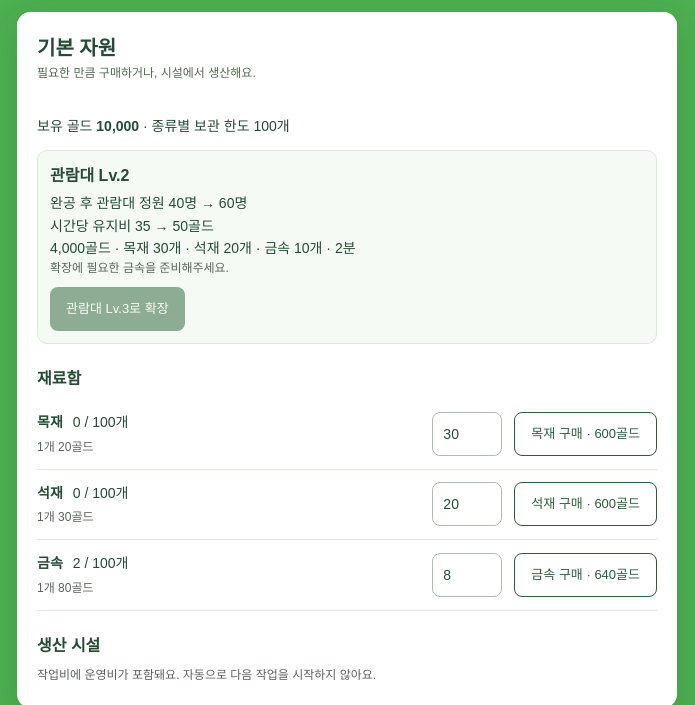
Test: early ordinary resource panel › previews the next capacity and buys missing metal through the same inventory
expect the heading "관람대 Lv.2" is shown: met, box [50, 167, 130, 184]
expect the text "완공 후 관람대 정원 40명 → 60명" is shown: met, box [50, 195, 247, 211]
Click the button "금속 구매 · 640골드" at coordinates (586, 575), box [514, 553, 657, 597]
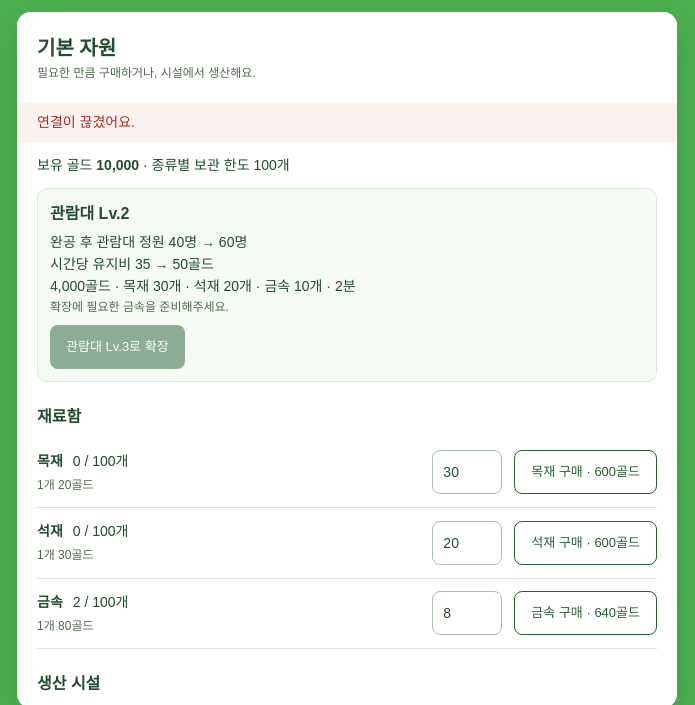
expect the message reads "연결이 끊겼어요.": met, box [37, 114, 135, 130]
Click the button "금속 구매 · 640골드" at coordinates (586, 614), box [514, 592, 657, 636]
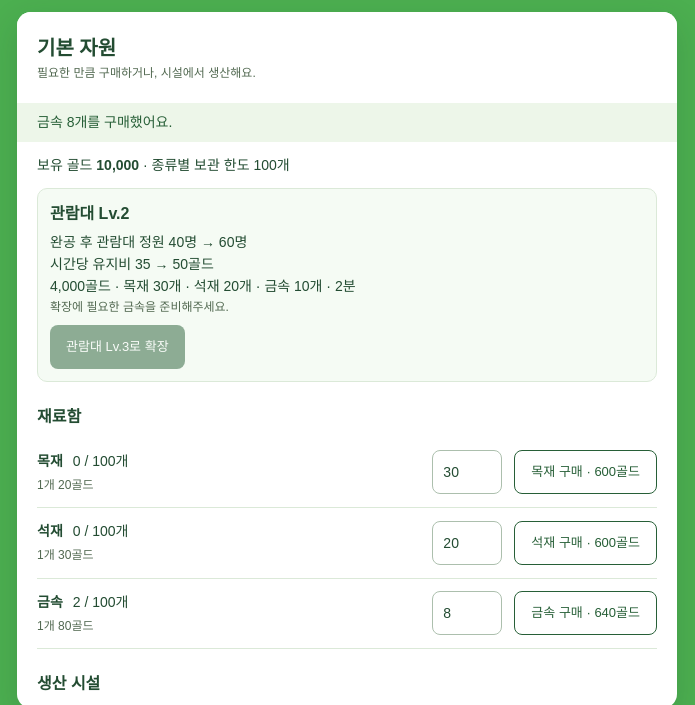
expect the message reads "금속 8개를 구매했어요.": met, box [37, 114, 172, 130]
